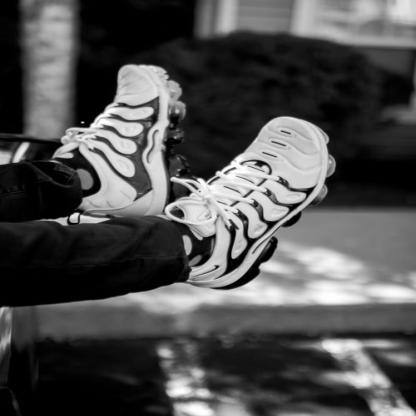ankle: (205, 247, 217, 257), (81, 180, 88, 185)
heel: (219, 282, 228, 287), (161, 211, 167, 216)
left_foot: (65, 64, 179, 220)
pinky: (120, 82, 125, 86), (315, 149, 320, 153)
right_foot: (184, 114, 336, 291)
toe: (264, 130, 269, 135), (140, 73, 146, 76)
